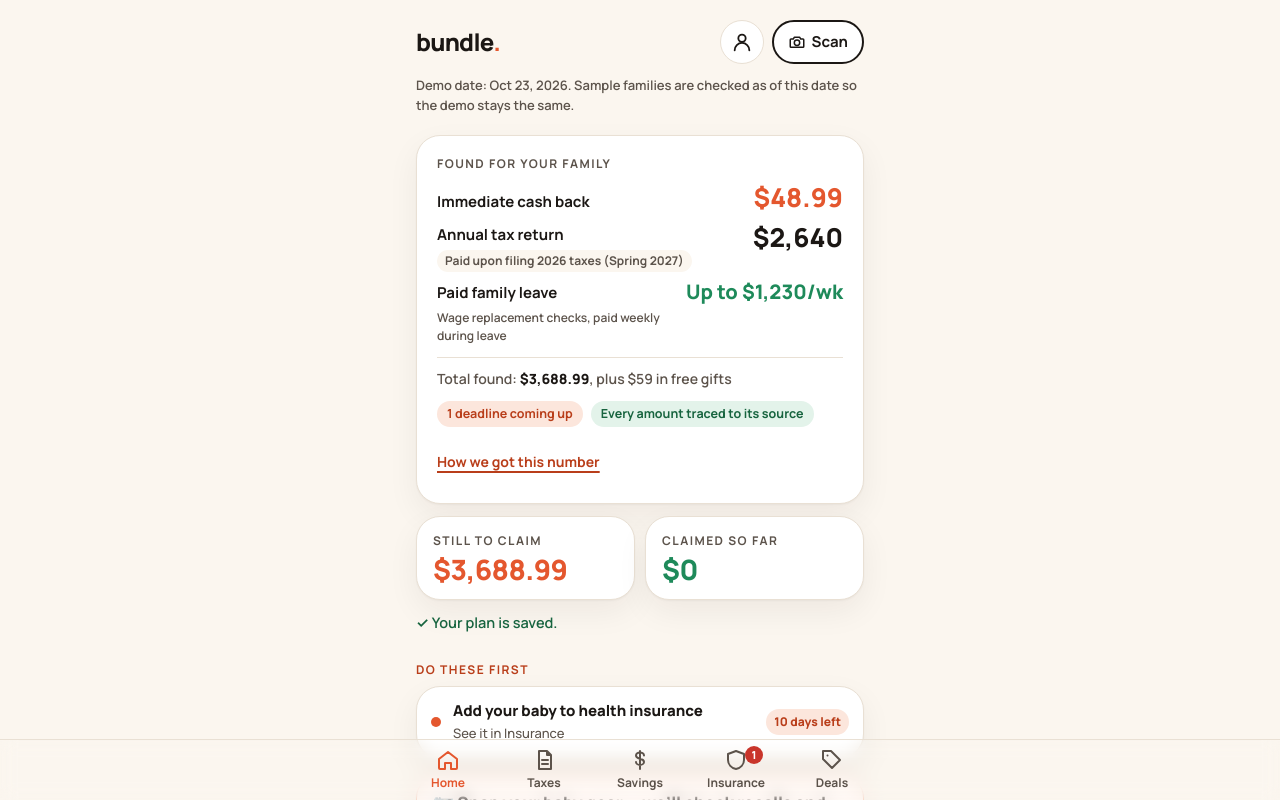
6. Account in plain words › the owner (reviewer code) still sees Meterless, grading notes and "Technical details"
The image size is (1280, 800).
Click the button named "Your account": (742, 42) [720, 20, 764, 64]
(page scrolled)
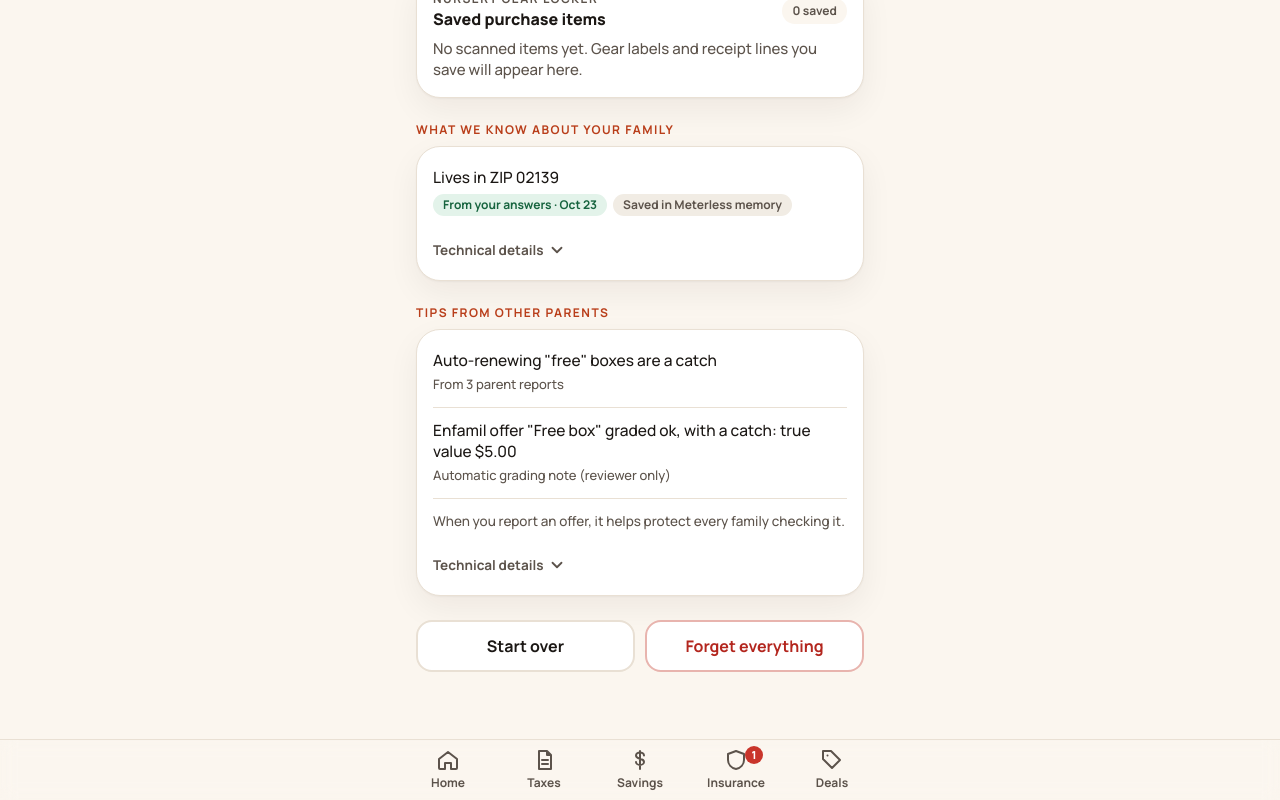
Expected: the text "Lives in ZIP 02139" is shown, [433, 166, 559, 188]
Expected: the text "Saved in Meterless memory" is shown, [613, 194, 792, 216]
Expected: the text "Enfamil" is shown, [433, 419, 811, 462]
